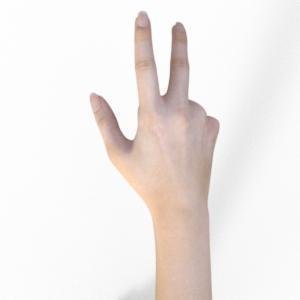Scissor: (88, 11, 220, 300)
